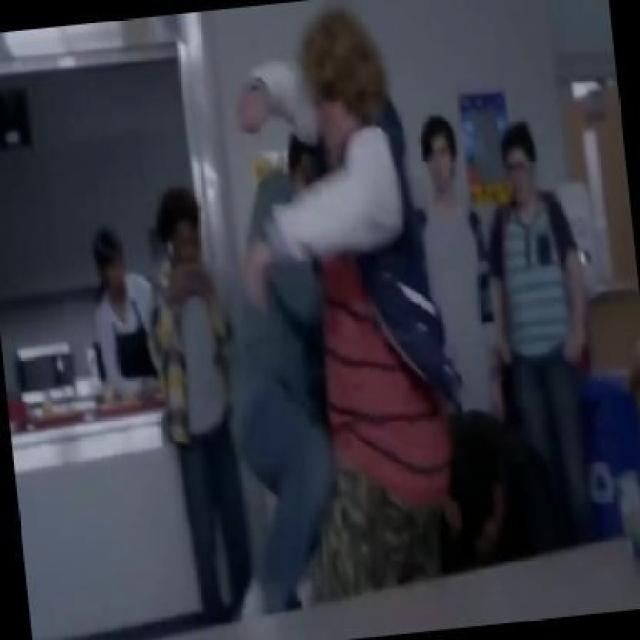fight: (214, 12, 466, 614)
non-fight: (100, 177, 265, 629)
